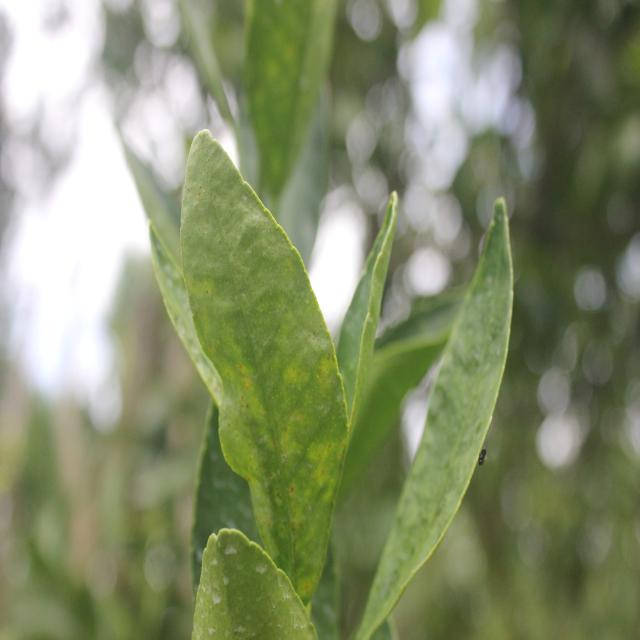canker: (231, 328, 334, 589)
